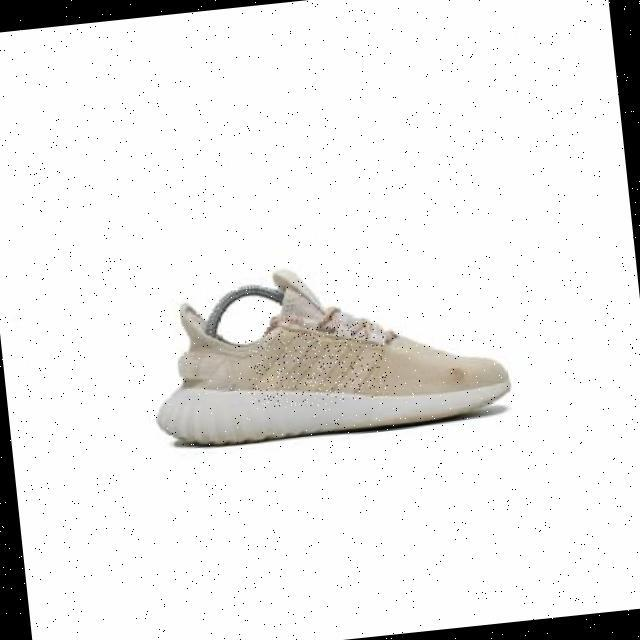Adidas: (244, 320, 390, 412)
